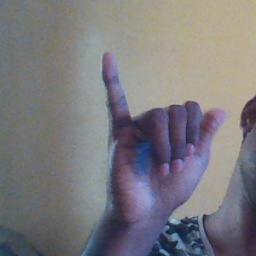J: (92, 49, 228, 210)
